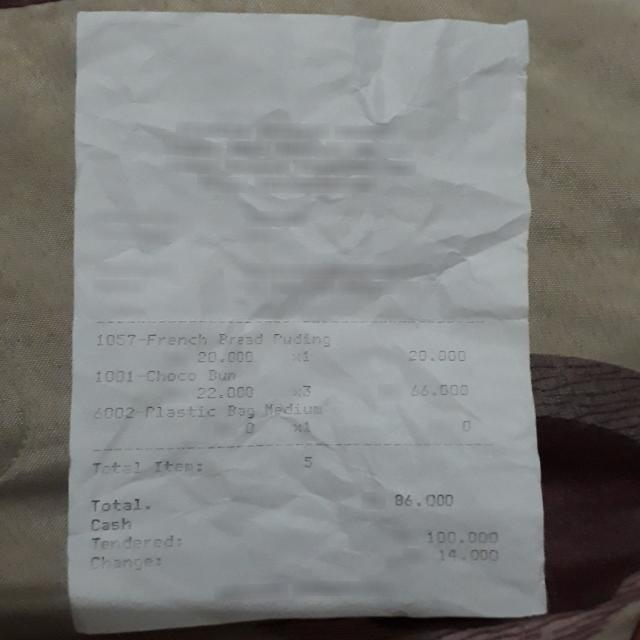kertas: (51, 0, 547, 634)
